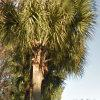Palm tree: (6, 7, 81, 98)
